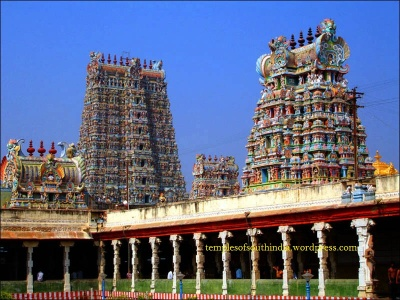gopura: (229, 25, 378, 180), (58, 59, 189, 200)
